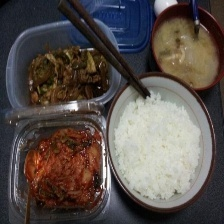rice: (115, 97, 201, 200)
